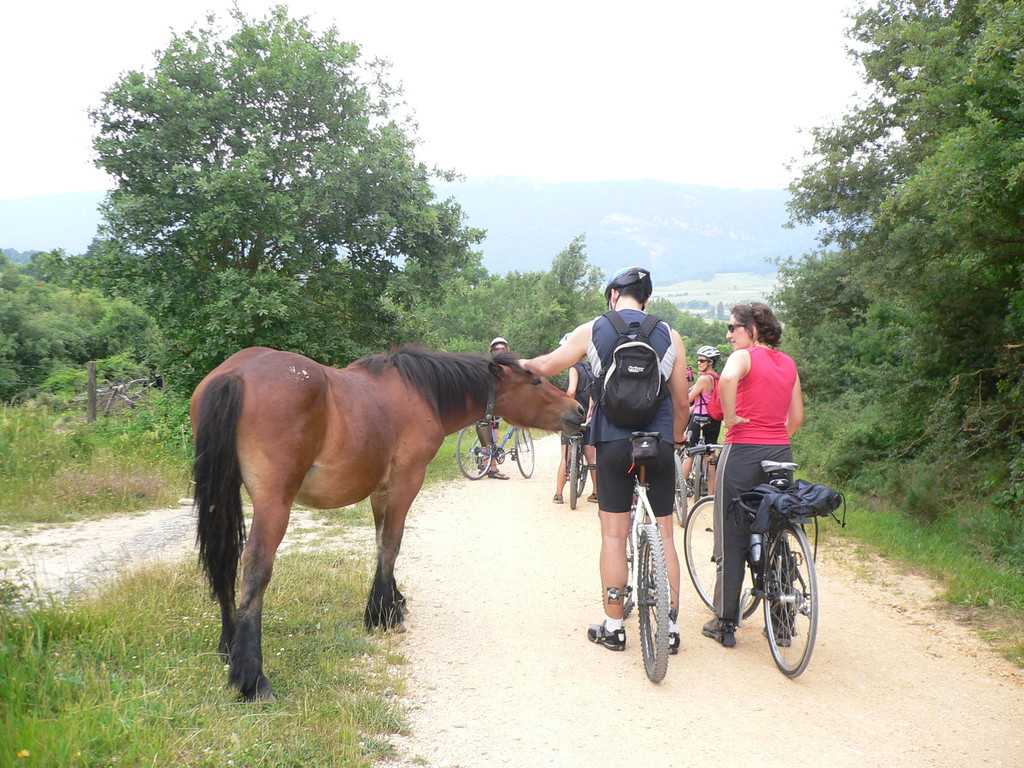Bike_away: (685, 444, 845, 679), (597, 432, 689, 685)
